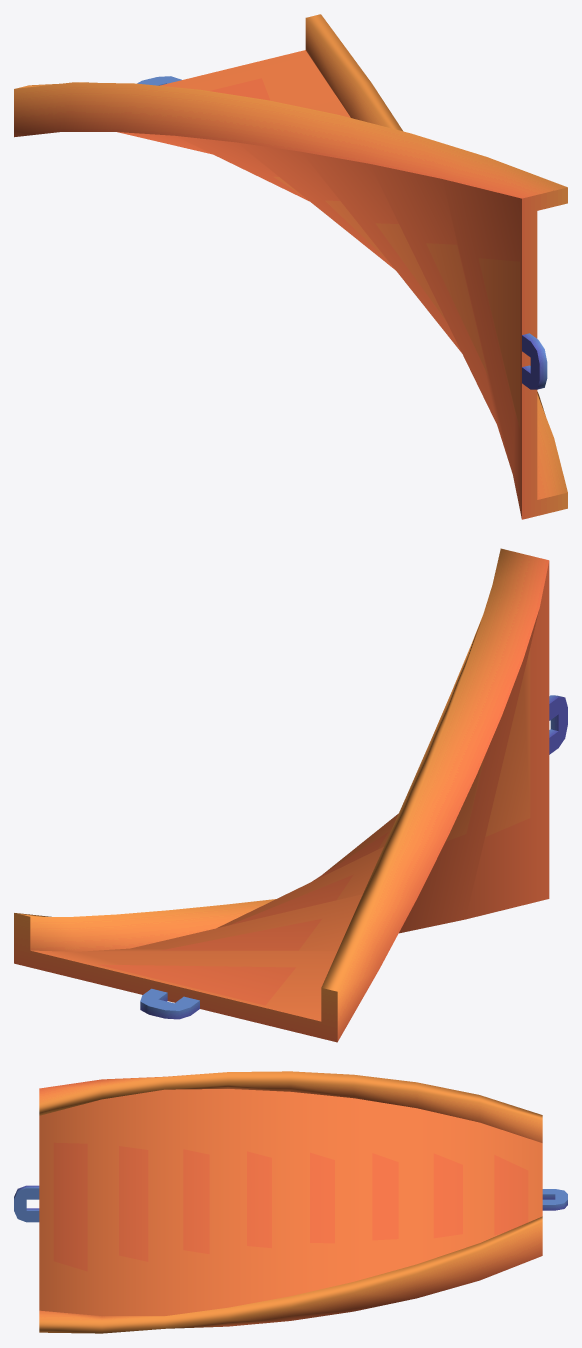
File: track-wide-straight-skew-left-side.glb
3 views of the same model, one above another, from view 1: azimuth 30°, elevation 25°; view 2: azimuth 150°, elevation 25°; view 3: azimuth 270°, elevation 25° (orthographic). The views are drawn at different scales.
Parts seen in each view (by area): view 1: track-wide-straight-skew-left-side; view 2: track-wide-straight-skew-left-side; view 3: track-wide-straight-skew-left-side.
Part boxes in pixels (left/top/right/bottom): track-wide-straight-skew-left-side: left=14, top=14, right=567, bottom=519; track-wide-straight-skew-left-side: left=14, top=548, right=567, bottom=1042; track-wide-straight-skew-left-side: left=14, top=1071, right=567, bottom=1333.
Size of the model in its own units: 6.13 by 6.13 by 13.2.
Materials: 1 (1 with a texture image).
